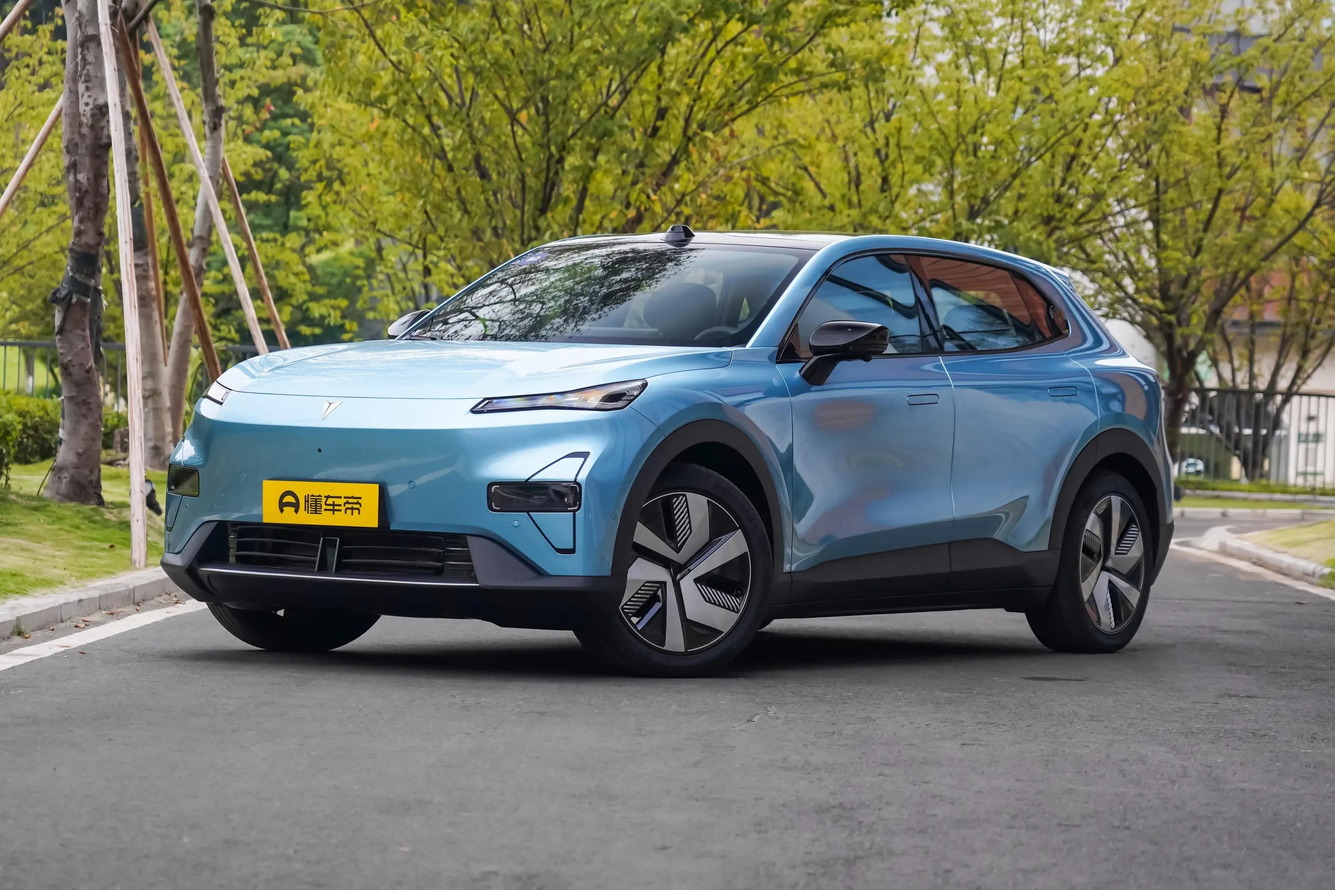Deepal: (321, 400, 342, 420)
